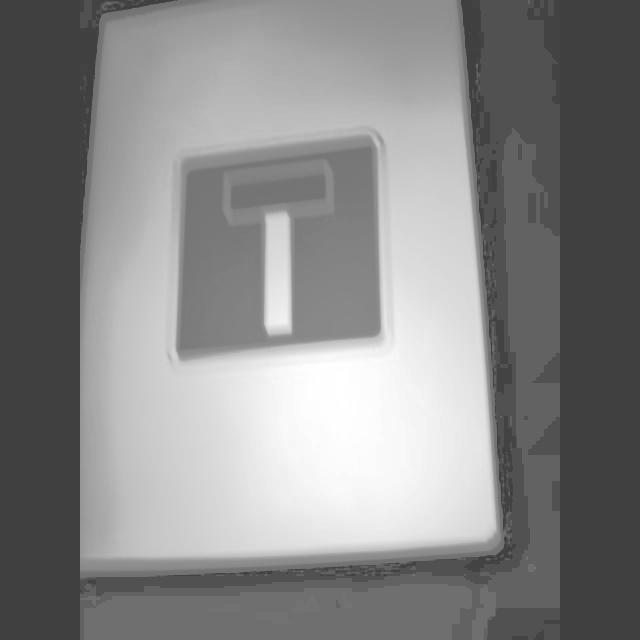DEAD END: (163, 128, 399, 362)
